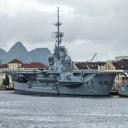Portanaves: (3, 9, 125, 99)
